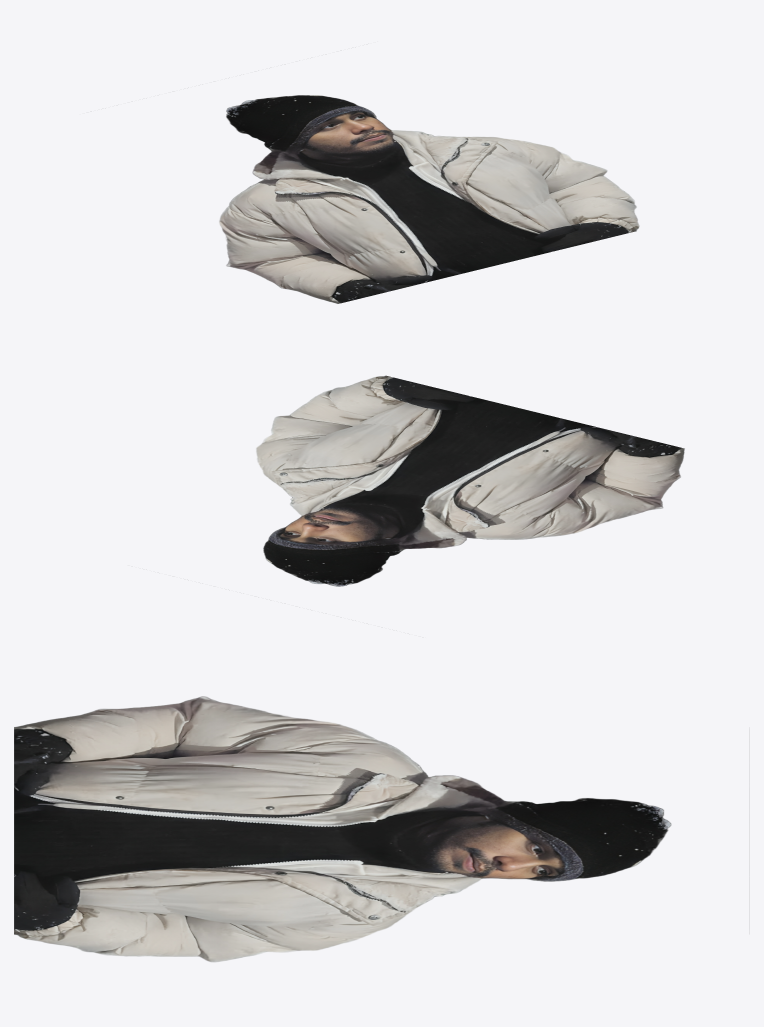
Rendered from Sami.glb.
3 renders of one model, top to bottom at view 1: azimuth 30°, elevation 25°; view 2: azimuth 150°, elevation 25°; view 3: azimuth 270°, elevation 25°, orthographic. The views are drawn at different scales.
Visible parts, largest first — view 1: Plane; view 2: Plane; view 3: Plane.
Boxes of the visible parts, <box> form: Plane: <box>219,95,639,303</box>; Plane: <box>256,375,684,586</box>; Plane: <box>14,696,671,962</box>.
Size of the model in its own units: 2 by 0 by 1.88.
1 material, 1 textured.
